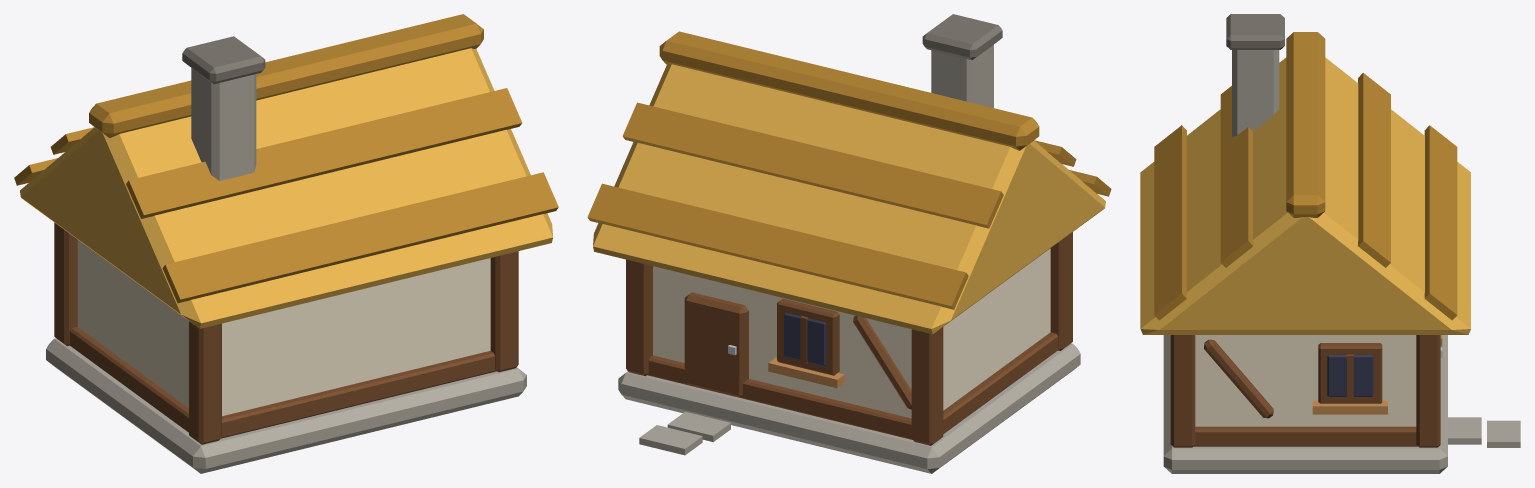
The model's file is house_l1.fbx.
3 renders of one model, left to right at view 1: azimuth 30°, elevation 25°; view 2: azimuth 150°, elevation 25°; view 3: azimuth 270°, elevation 25°, orthographic. The views are drawn at different scales.
Visible parts, largest first — view 1: house_l1; view 2: house_l1; view 3: house_l1.
Part boxes in pixels (<box>): house_l1: <box>14,14,558,473</box>; house_l1: <box>587,14,1111,473</box>; house_l1: <box>1140,14,1520,473</box>.
Size of the model in its own units: 0.864 by 0.804 by 0.8177.
